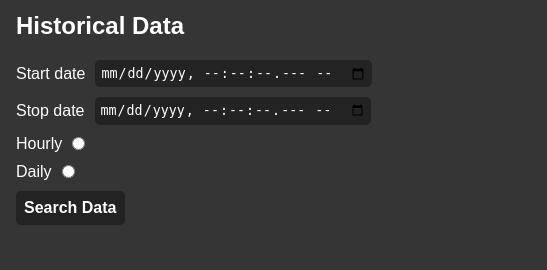
HistoricalData › It should display the error message when there is no input
This screenshot has width=547, height=270.
What coordinates should you click on to do the following:
click the button "Search Data"
I would click on:
 (70, 208)
Its box is [16,191,124,225].
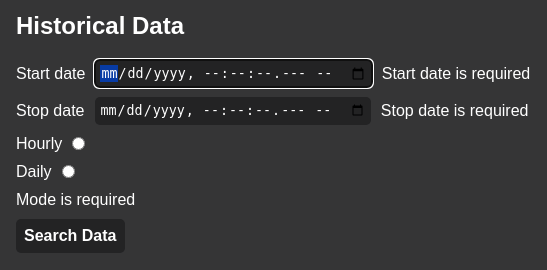
Check: the text "Start date is required" is shown, box [382,65,530,83]
Check: the text "Stop date is required" is shown, box [381,102,528,120]
Check: the text "Mode is required" is shown, box [16,191,135,208]
